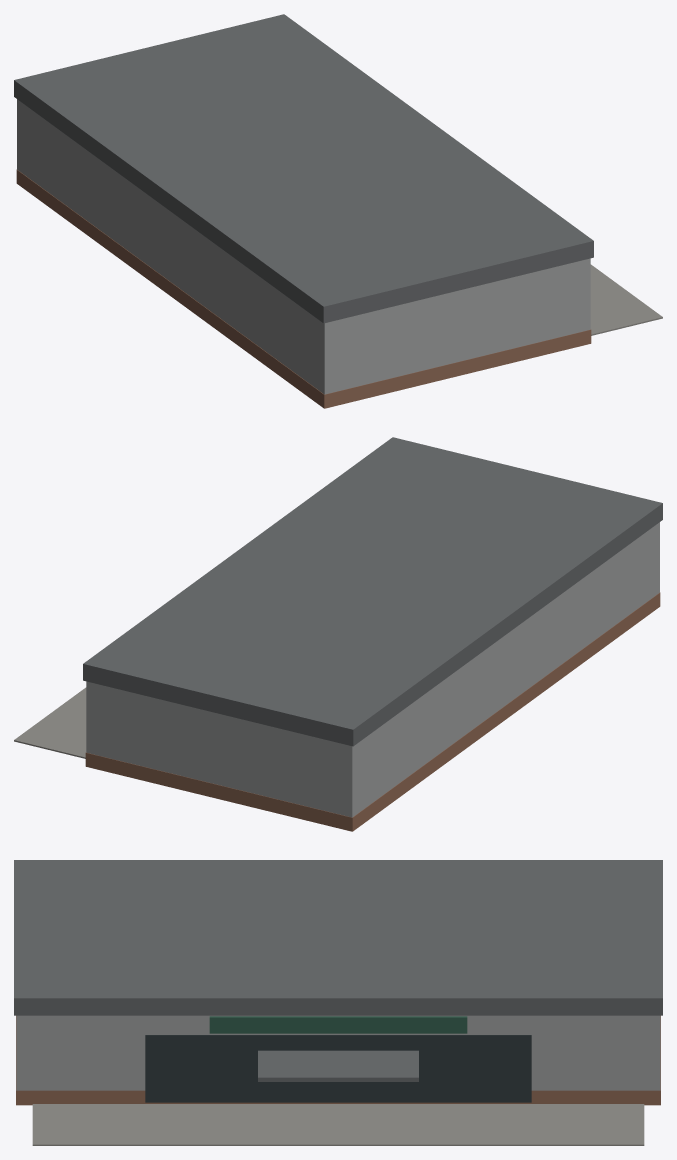
Rendered from SM_Prop_services_hall_0_LOD2.glb.
The picture shows the model from 3 angles, top to bottom: view 1: azimuth 30°, elevation 25°; view 2: azimuth 150°, elevation 25°; view 3: azimuth 270°, elevation 25°; orthographic projection. The views are drawn at different scales.
Visible parts, largest first — view 1: SM_Prop_services_hall_0_LOD2; view 2: SM_Prop_services_hall_0_LOD2; view 3: SM_Prop_services_hall_0_LOD2.
Boxes of the visible parts, <box> form: SM_Prop_services_hall_0_LOD2: <box>14,14,662,408</box>; SM_Prop_services_hall_0_LOD2: <box>14,437,662,831</box>; SM_Prop_services_hall_0_LOD2: <box>14,860,662,1145</box>.
Bounding box in the file's own units: 26.15 × 7.4 × 40.3.
